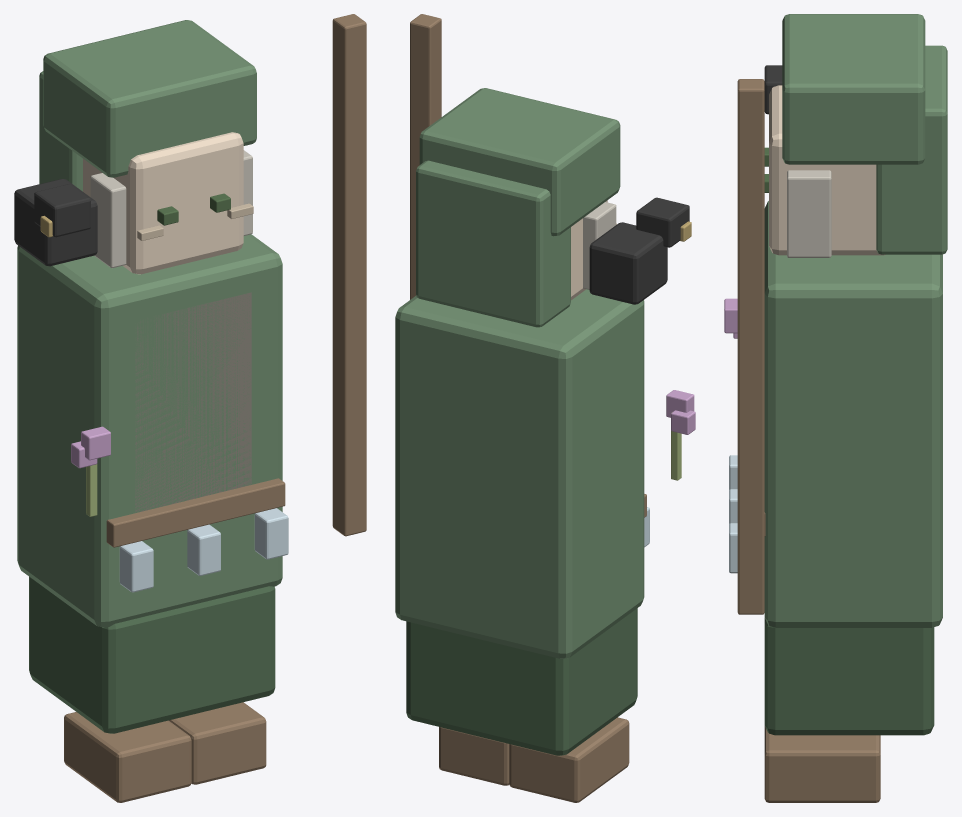
Rendered from npc_onywyn.glb.
The picture shows the model from 3 angles, left to right: view 1: azimuth 30°, elevation 25°; view 2: azimuth 150°, elevation 25°; view 3: azimuth 270°, elevation 25°; orthographic projection. The views are drawn at different scales.
Parts seen in each view (by area): view 1: Body_cloak, Body_cloak_lower, Head_hood_top, Arm_R_staff, Body_torso, Head_skull, Leg_L_boot, Leg_R_boot, Body_belt, Body, Body_raven_body, Head_hair_L (+4 smaller); view 2: Body_cloak, Body_cloak_lower, Head_hood_back, Head_hood_top, Leg_L_boot, Body_raven_body, Arm_R_staff, Leg_R_boot, Body_raven_head, Head_hair_L, Head_skull, Arm_L_flower_a (+1 smaller); view 3: Body_cloak, Head_hood_top, Body_cloak_lower, Arm_R_staff, Head_hood_back, Leg_R_boot, Head_skull, Head_hair_R, Body, Body_raven_head, Arm_L_flower_a.
Part boxes in pixels (x1,y1,x2,y2): Body_cloak: [17, 234, 282, 627]; Body_cloak_lower: [29, 576, 275, 733]; Head_hood_top: [43, 20, 256, 177]; Arm_R_staff: [332, 14, 366, 536]; Body_torso: [135, 292, 251, 512]; Head_skull: [83, 132, 243, 274]; Leg_L_boot: [64, 712, 191, 802]; Leg_R_boot: [169, 702, 266, 784]; Body_belt: [106, 478, 285, 547]; Body: [119, 508, 288, 592]; Body_raven_body: [14, 179, 97, 266]; Head_hair_L: [90, 173, 126, 268]; Body_cloak: [395, 289, 644, 658]; Body_cloak_lower: [406, 608, 637, 755]; Head_hood_back: [416, 160, 570, 327]; Head_hood_top: [419, 88, 620, 236]; Leg_L_boot: [509, 717, 629, 802]; Body_raven_body: [589, 222, 667, 304]; Arm_R_staff: [410, 14, 441, 299]; Leg_R_boot: [439, 727, 509, 785]; Body_raven_head: [636, 197, 689, 247]; Head_hair_L: [583, 202, 616, 289]; Head_skull: [571, 200, 607, 300]; Arm_L_flower_a: [666, 390, 694, 417]; Body_cloak: [764, 201, 942, 627]; Head_hood_top: [782, 14, 925, 164]; Body_cloak_lower: [764, 618, 934, 735]; Arm_R_staff: [737, 79, 764, 614]; Head_hood_back: [876, 45, 947, 254]; Leg_R_boot: [764, 726, 880, 802]; Head_skull: [769, 85, 885, 255]; Head_hair_R: [787, 170, 831, 257]; Body: [729, 455, 737, 573]; Body_raven_head: [764, 65, 782, 114]; Arm_L_flower_a: [724, 298, 737, 333].
Size of the model in its own units: 0.81 by 1.88 by 0.5.
